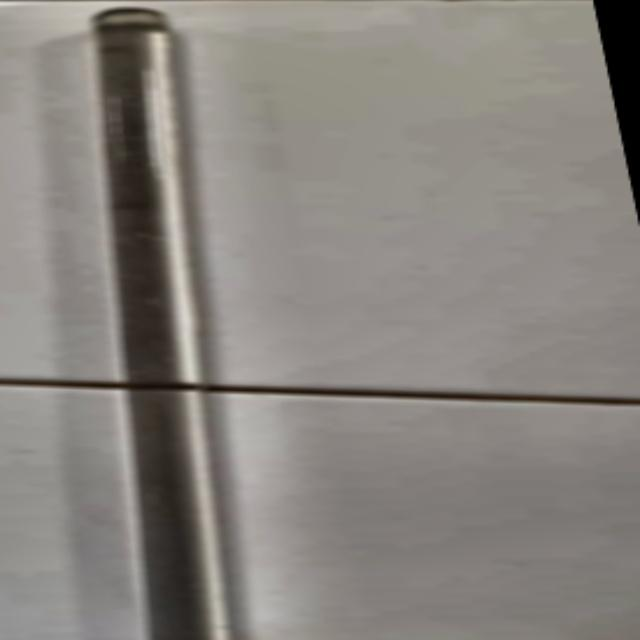Stirrer: (18, 3, 318, 640)
